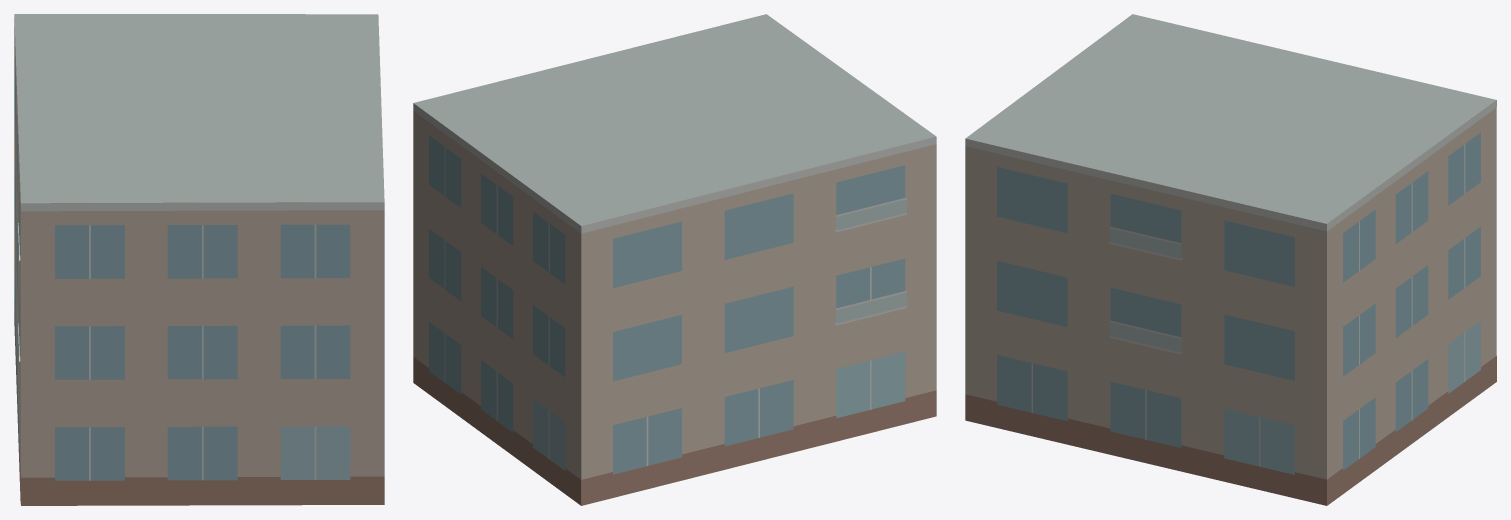
The model's file is survey-upis-32705778.glb.
3 renders of one model, left to right at view 1: azimuth 30°, elevation 25°; view 2: azimuth 150°, elevation 25°; view 3: azimuth 270°, elevation 25°, orthographic. The views are drawn at different scales.
Visible parts, largest first — view 1: survey-upis-32705778.tmp; view 2: survey-upis-32705778.tmp; view 3: survey-upis-32705778.tmp.
Part boxes in pixels (left/top/right/bottom): survey-upis-32705778.tmp: left=14, top=14, right=384, bottom=505; survey-upis-32705778.tmp: left=413, top=14, right=936, bottom=505; survey-upis-32705778.tmp: left=965, top=14, right=1496, bottom=505.
Size of the model in its own units: 14.62 by 9.15 by 15.64.
